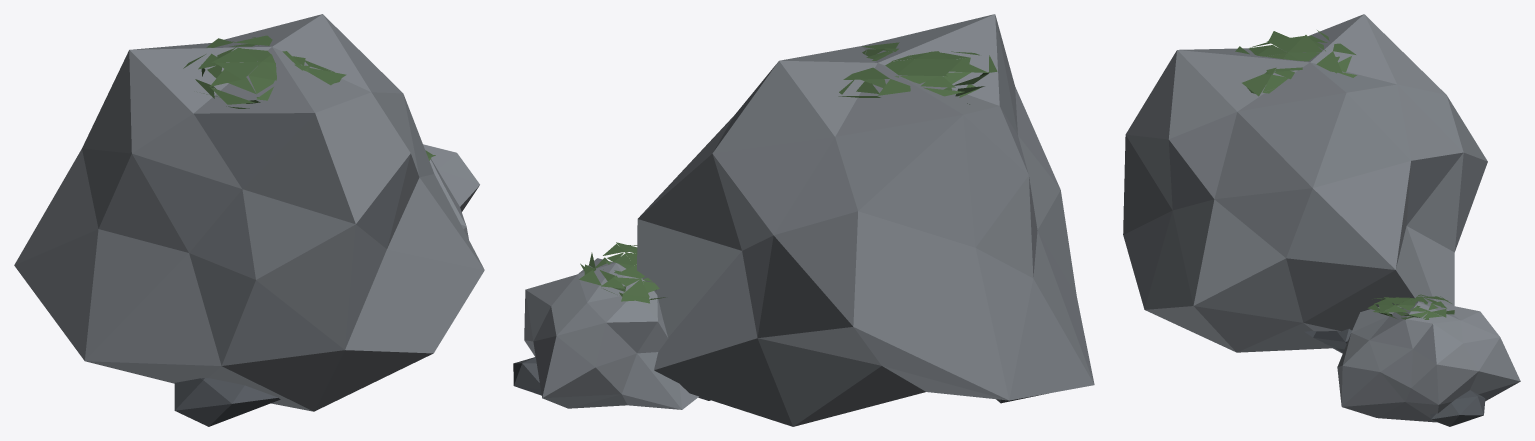
Rendered from boulder-1.glb.
The picture shows the model from 3 angles, left to right: view 1: azimuth 30°, elevation 25°; view 2: azimuth 150°, elevation 25°; view 3: azimuth 270°, elevation 25°; orthographic projection. The views are drawn at different scales.
Visible parts, largest first — view 1: boulder_large, moss_large, boulder_large_slab, boulder_small; view 2: boulder_large, boulder_small, moss_large, moss_small, boulder_small_chip; view 3: boulder_large, boulder_small, moss_large, moss_small, boulder_small_chip, boulder_large_shoulder.
Boxes of the visible parts, box(x1,y1,x2,y2) form: boulder_large: box(14, 14, 484, 411); moss_large: box(183, 35, 346, 108); boulder_large_slab: box(174, 378, 280, 426); boulder_small: box(423, 144, 479, 239); boulder_large: box(637, 14, 1094, 426); boulder_small: box(524, 258, 698, 409); moss_large: box(838, 42, 997, 104); moss_small: box(579, 242, 665, 303); boulder_small_chip: box(513, 357, 541, 395); boulder_large: box(1123, 14, 1487, 352); boulder_small: box(1337, 300, 1520, 422); moss_large: box(1235, 30, 1356, 96); moss_small: box(1367, 294, 1454, 319); boulder_small_chip: box(1430, 390, 1485, 426); boulder_large_shoulder: box(1304, 329, 1351, 353).
Bounding box in the file's own units: 1.8 × 1.17 × 1.54.
